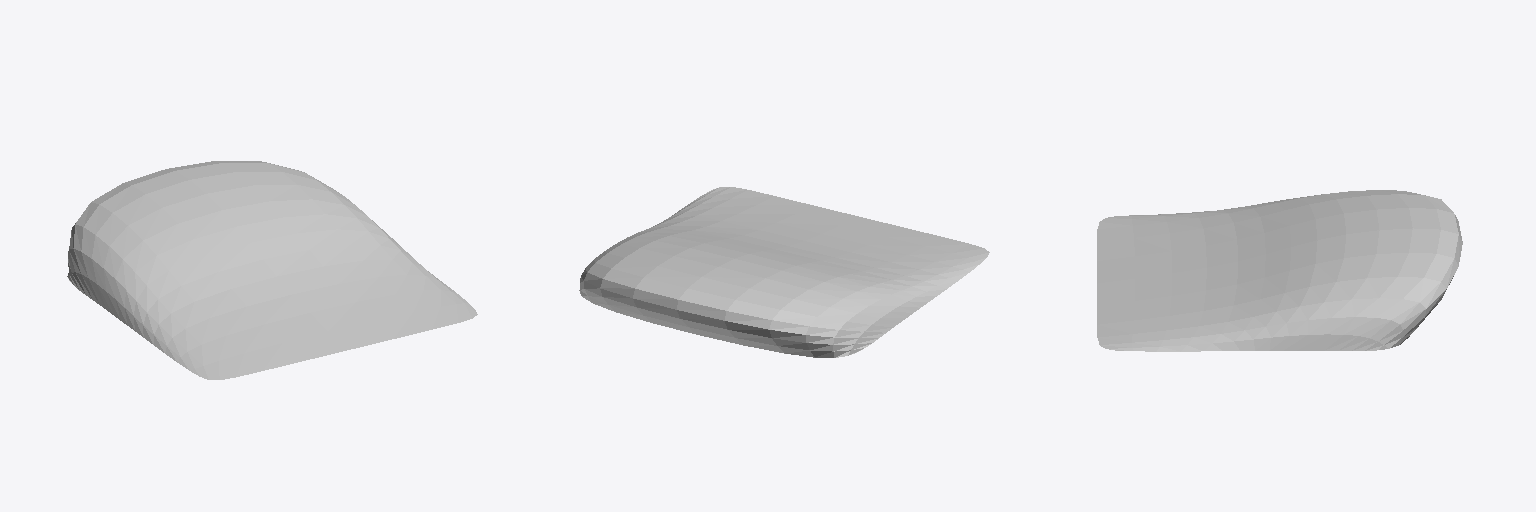
Rendered from wave.obj.
3 views of the same model, side by side, from view 1: azimuth 30°, elevation 25°; view 2: azimuth 150°, elevation 25°; view 3: azimuth 270°, elevation 25° (orthographic).
Visible parts, largest first — view 1: Plane; view 2: Plane; view 3: Plane.
Part boxes in pixels (left/top/right/bottom): Plane: left=67, top=161, right=477, bottom=379; Plane: left=579, top=187, right=989, bottom=357; Plane: left=1097, top=190, right=1462, bottom=351.
Bounding box in the file's own units: 2 × 0.3741 × 2.25.